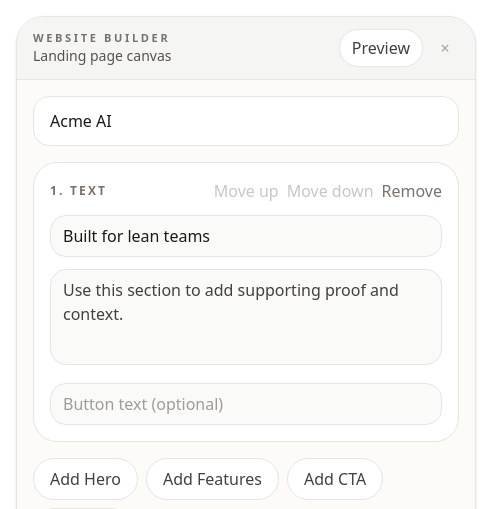
it: WebsiteBuilder › renders text preview with heading and paragraph
The width and height of the screenshot is (493, 509).
Click the button "Preview" at (381, 48), box x1=339 y1=29 x2=423 y2=67
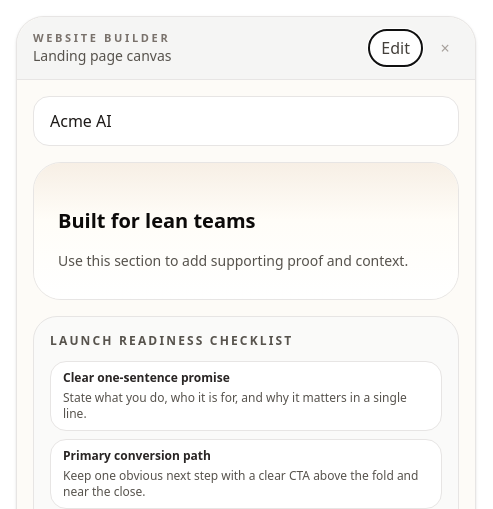
Expected: the heading "Built for lean teams" is shown, x1=58 y1=207 x2=256 y2=234
Expected: the text "Use this section to add supporting proof and context." is shown, x1=58 y1=247 x2=434 y2=275
